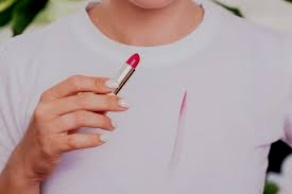lipstick: (169, 121, 188, 169), (178, 90, 190, 125)
